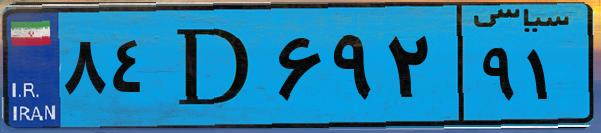1: (525, 38, 570, 115)
2: (385, 28, 445, 110)
4: (110, 28, 158, 98)
6: (270, 28, 330, 110)
8: (57, 26, 110, 100)
9: (330, 28, 385, 110), (475, 38, 525, 113)
D: (158, 12, 270, 120)
